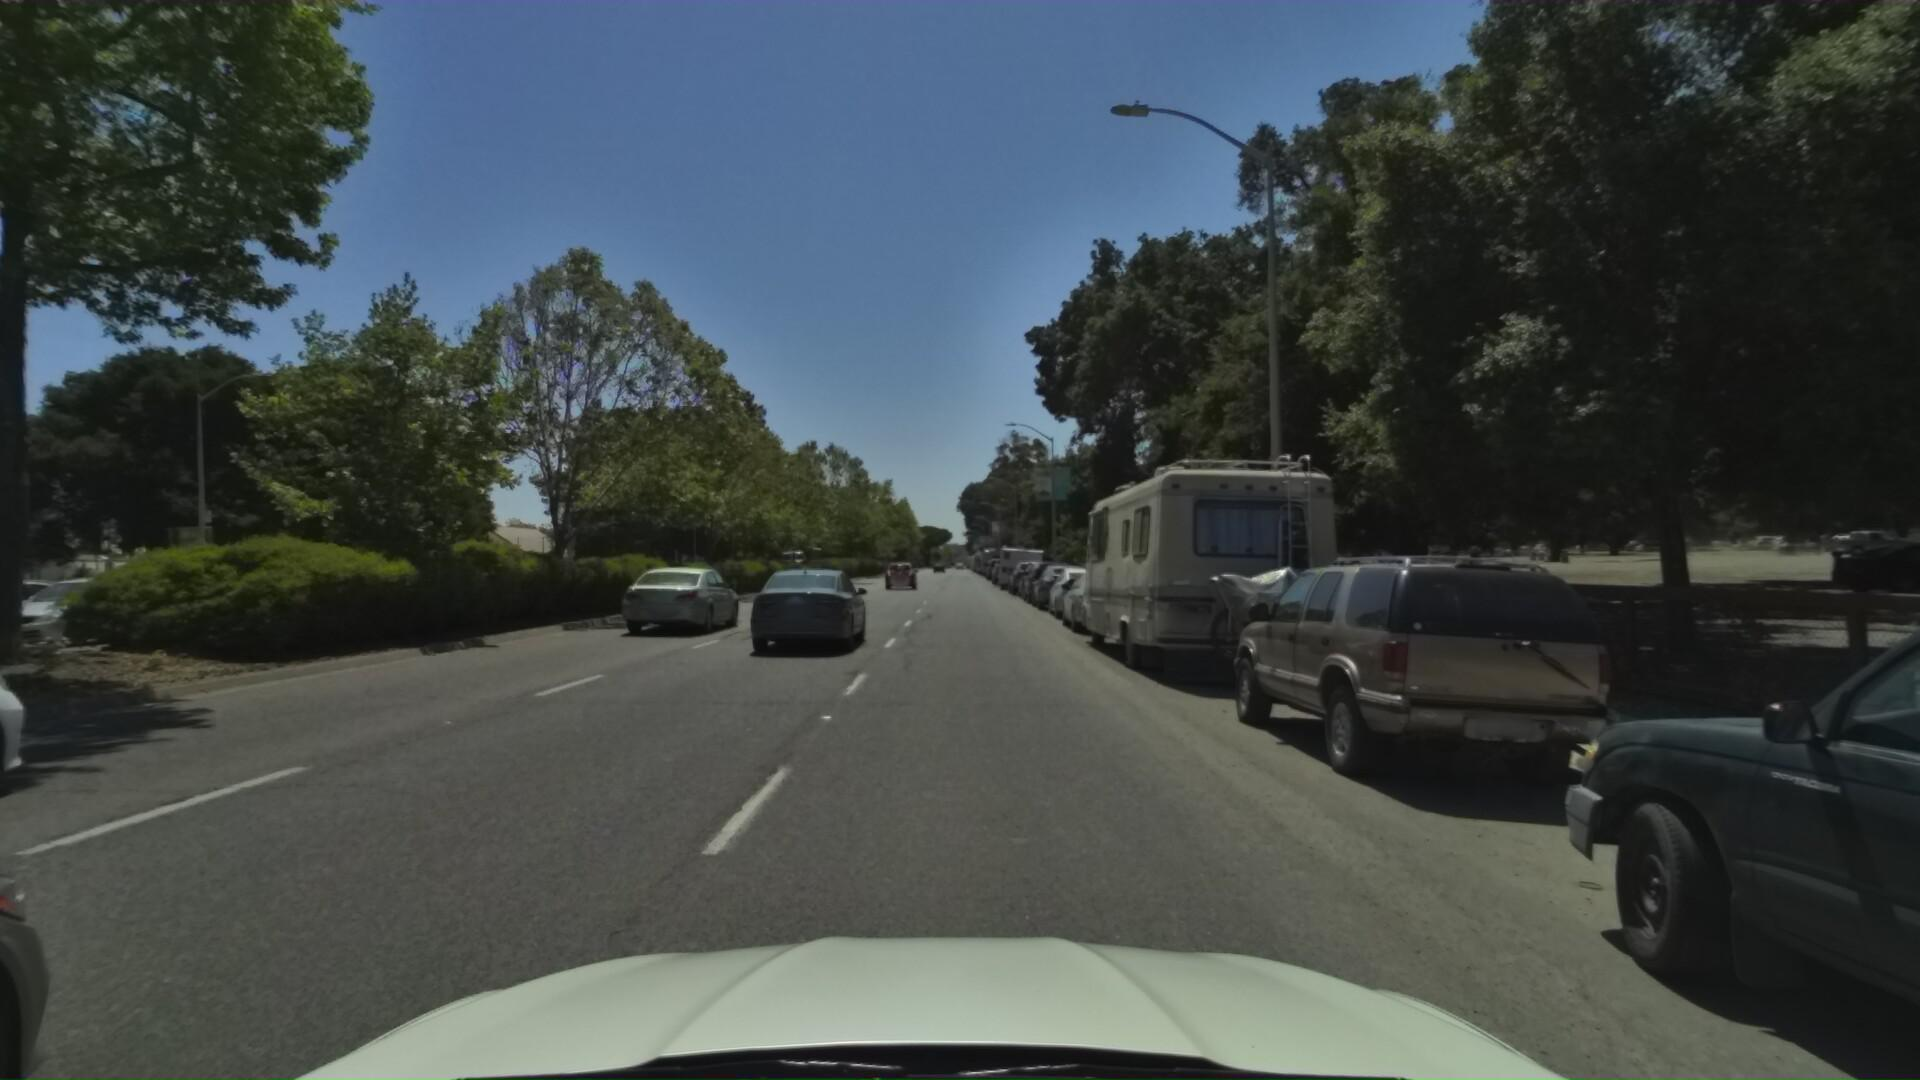car: (1212, 541, 1691, 833), (738, 560, 869, 663), (616, 560, 746, 638), (1056, 556, 1159, 642), (1042, 555, 1124, 620), (1025, 553, 1100, 612), (1018, 549, 1077, 604), (1013, 549, 1064, 597), (1005, 549, 1050, 589), (986, 549, 1023, 584), (881, 556, 916, 588), (982, 550, 1007, 574)
other_vehicle: (1064, 429, 1395, 713), (993, 534, 1044, 585)
